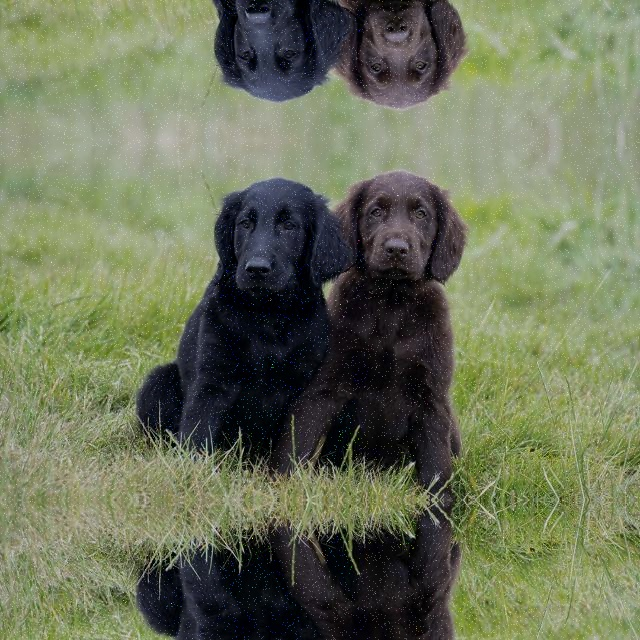dog: (336, 163, 480, 282), (336, 0, 480, 114), (203, 164, 327, 291), (204, 0, 327, 114)
